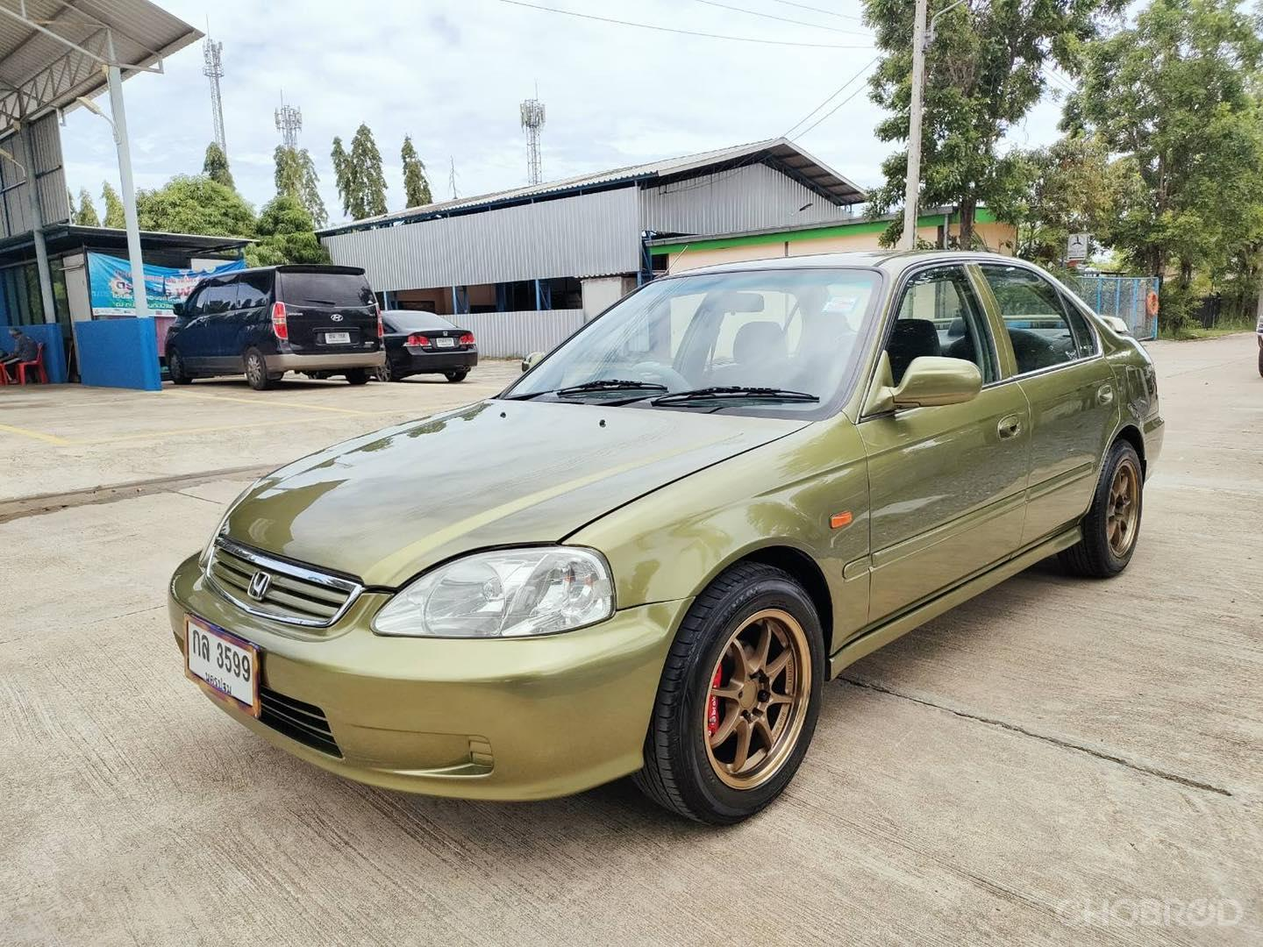license-plate: (183, 614, 266, 726)
